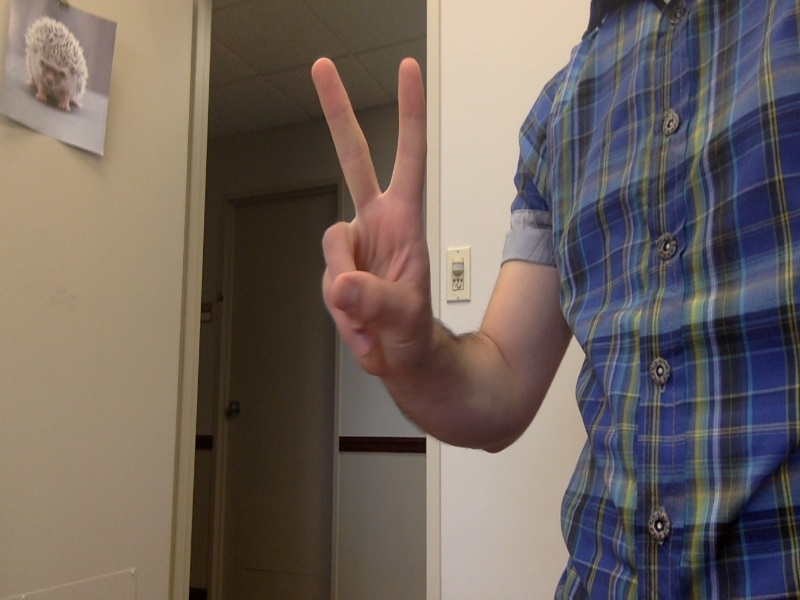2-hand: (308, 56, 444, 379)
